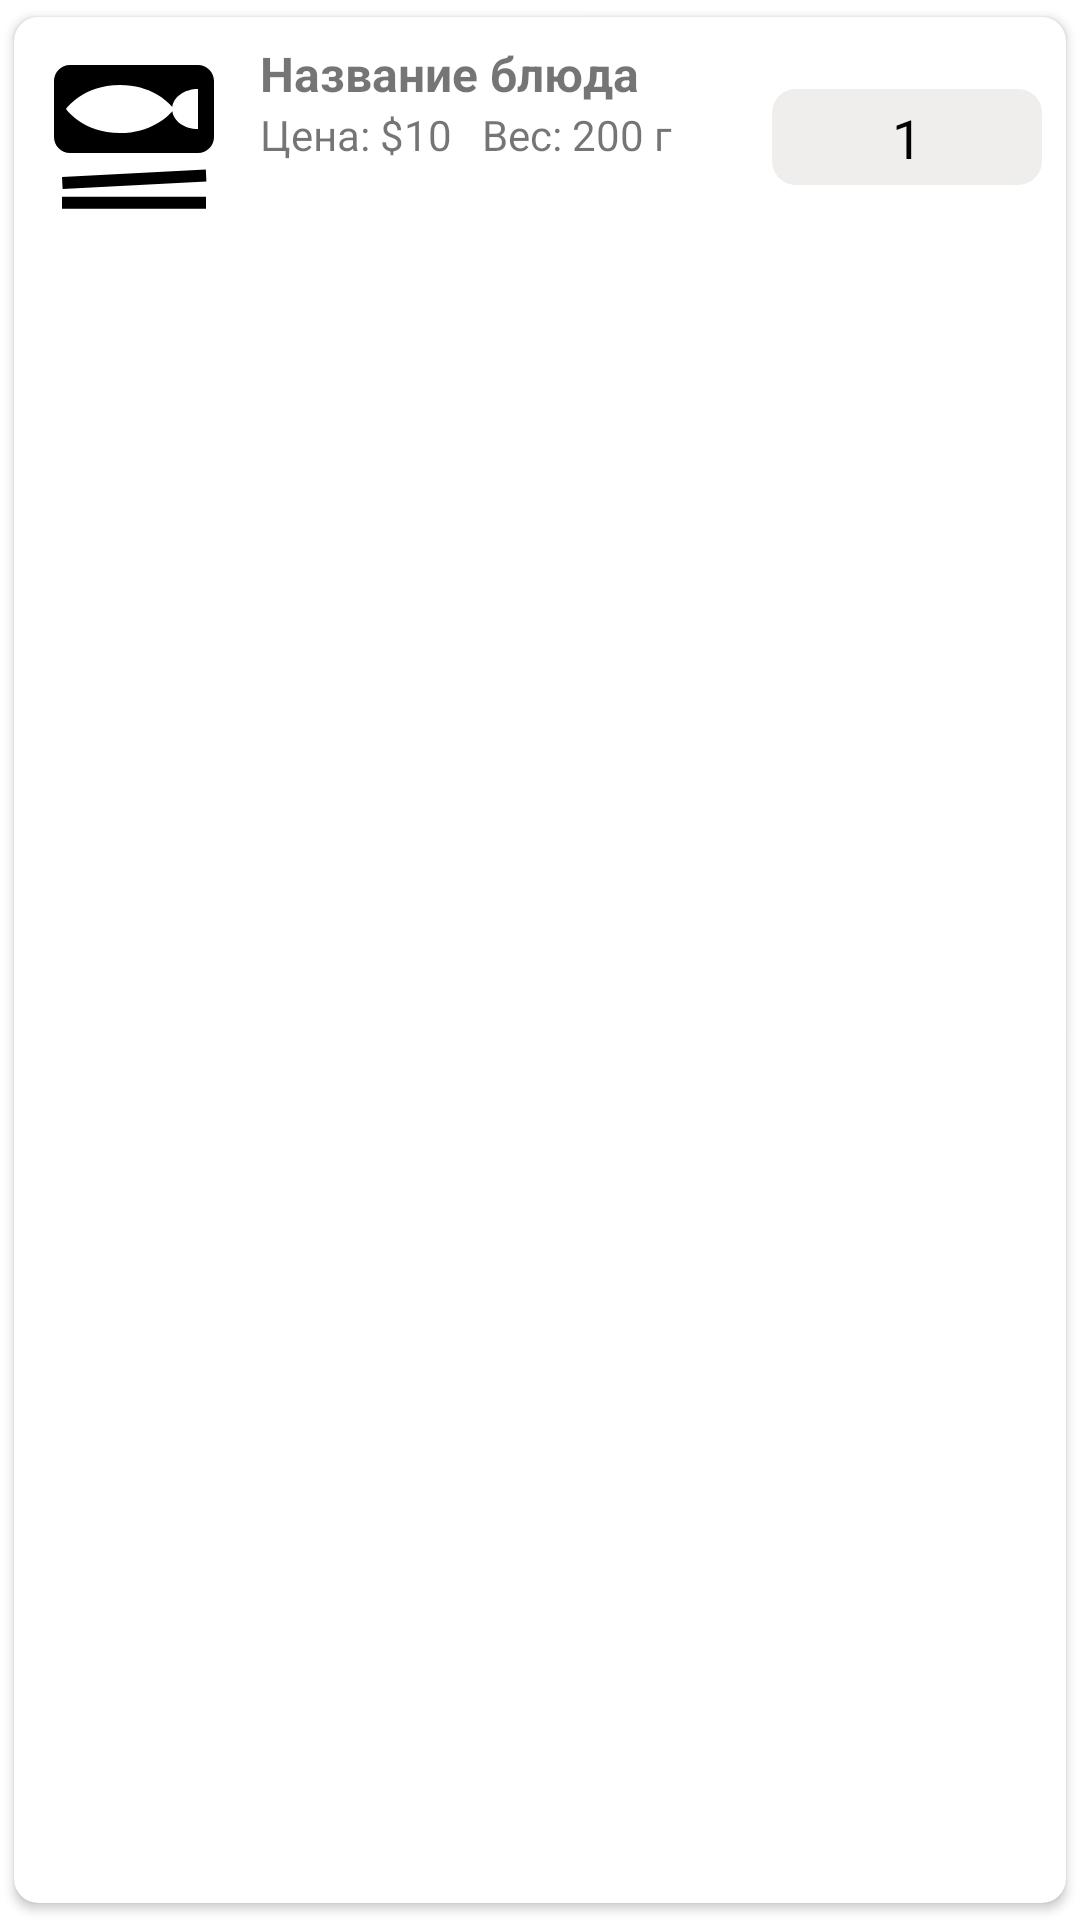

Where to tap for icons on this 1080×1920 app screen, as [x,y]:
set meal: [134,137]
